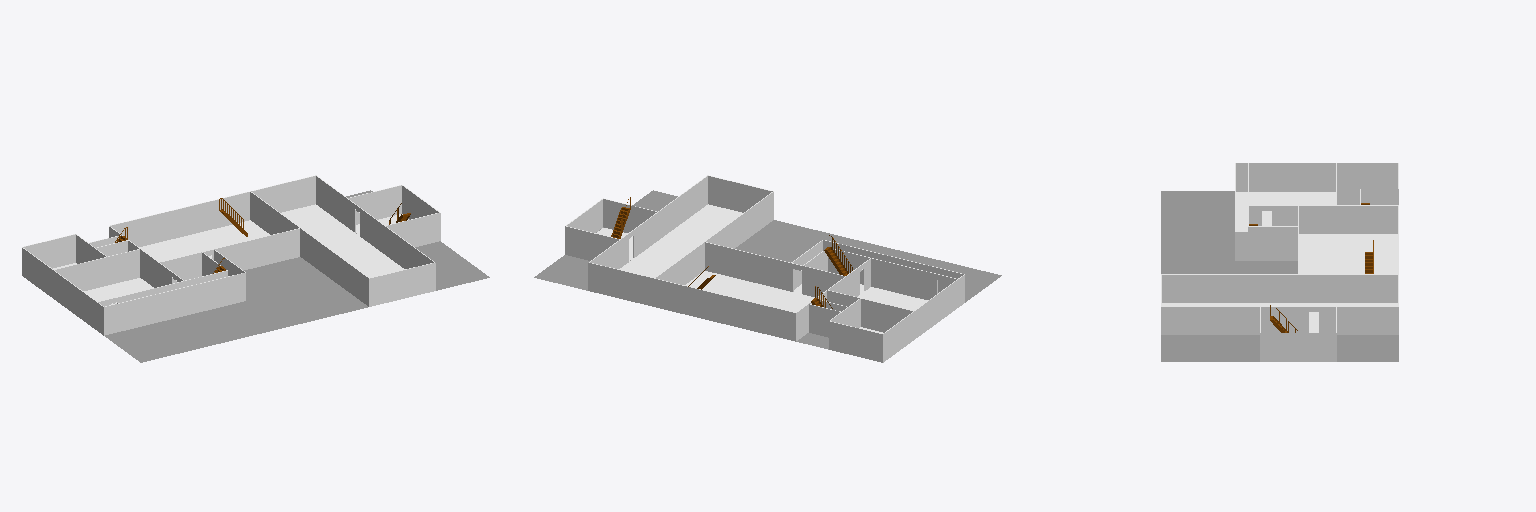
The model's file is MAzmorra.obj.
3 renders of one model, left to right at view 1: azimuth 30°, elevation 25°; view 2: azimuth 150°, elevation 25°; view 3: azimuth 270°, elevation 25°, orthographic.
Visible parts, largest first — view 1: ground_1, wall_32_112, wall_22_64, room_73_177, wall_20_53, wall_55_155, room_64_172, wall_57_166, wall_56_160, wall_54_149, wall_25_71, wall_28_88 (+8 smaller); view 2: ground_1, wall_22_65, wall_20_52, room_73_177, room_64_172, wall_27_83, wall_55_155, wall_54_148, wall_57_166, wall_4_23, wall_56_161, wall_28_88 (+11 smaller); view 3: ground_1, wall_55_154, wall_57_167, room_64_172, wall_21_59, wall_28_89, wall_19_46, wall_52_137, wall_31_106, wall_1_4, room_66_174, wall_50_124 (+3 smaller).
Part boxes in pixels (left/top/right/bottom): ground_1: left=105, top=190, right=489, bottom=362; wall_32_112: left=104, top=273, right=245, bottom=335; wall_22_64: left=110, top=192, right=249, bottom=246; room_73_177: left=281, top=204, right=404, bottom=277; wall_20_53: left=160, top=229, right=299, bottom=282; wall_55_155: left=316, top=176, right=433, bottom=268; room_64_172: left=139, top=220, right=269, bottom=261; wall_57_166: left=300, top=228, right=368, bottom=306; wall_56_160: left=369, top=263, right=435, bottom=306; wall_54_149: left=251, top=176, right=315, bottom=212; wall_25_71: left=61, top=249, right=139, bottom=288; wall_28_88: left=53, top=270, right=96, bottom=329; ground_1: left=534, top=190, right=1001, bottom=349; wall_22_65: left=654, top=279, right=795, bottom=341; wall_20_52: left=705, top=242, right=844, bottom=297; room_73_177: left=619, top=204, right=742, bottom=277; room_64_172: left=684, top=271, right=814, bottom=312; wall_27_83: left=871, top=258, right=956, bottom=299; wall_55_155: left=590, top=176, right=707, bottom=268; wall_54_148: left=588, top=263, right=653, bottom=306; wall_57_166: left=706, top=192, right=773, bottom=248; wall_4_23: left=829, top=321, right=882, bottom=362; wall_56_161: left=708, top=176, right=772, bottom=212; wall_28_88: left=915, top=280, right=958, bottom=338; ground_1: left=1161, top=191, right=1398, bottom=361; wall_55_154: left=1161, top=307, right=1398, bottom=334; wall_57_167: left=1162, top=275, right=1297, bottom=302; room_64_172: left=1299, top=234, right=1397, bottom=273; wall_21_59: left=1298, top=275, right=1397, bottom=302; wall_28_89: left=1249, top=163, right=1335, bottom=191; wall_19_46: left=1299, top=206, right=1397, bottom=233; wall_52_137: left=1260, top=333, right=1336, bottom=361; wall_31_106: left=1235, top=232, right=1297, bottom=260; wall_1_4: left=1337, top=163, right=1397, bottom=188; room_66_174: left=1249, top=192, right=1335, bottom=225; wall_50_124: left=1261, top=307, right=1335, bottom=332.
Size of the model in its own units: 3212 by 362 by 1900.